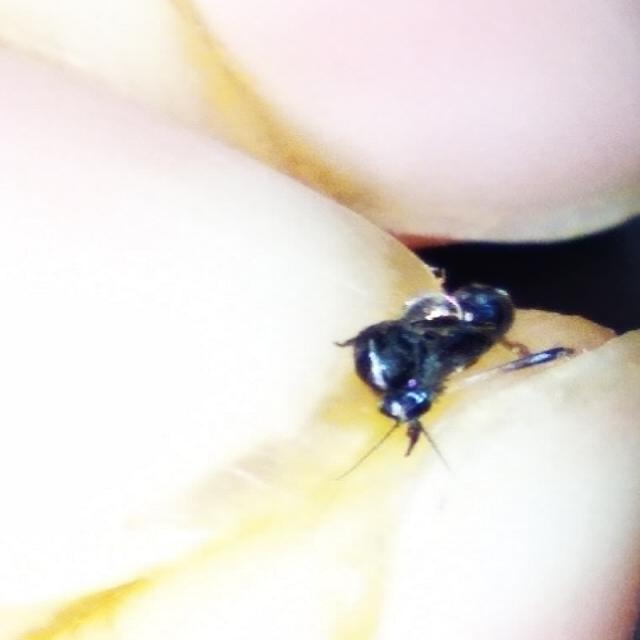albopictus: (327, 229, 570, 490)
